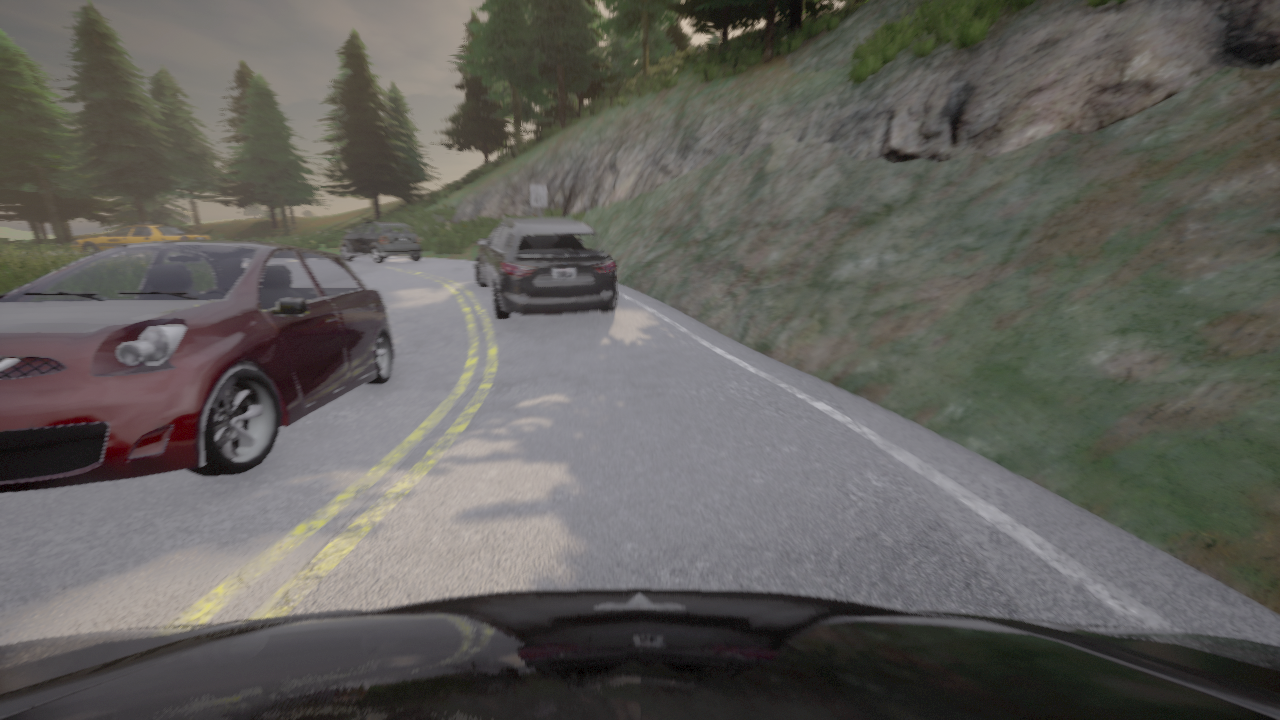cyclist: (0, 588, 1279, 719), (0, 240, 395, 493), (475, 218, 617, 319), (71, 222, 211, 255), (341, 221, 423, 263)
